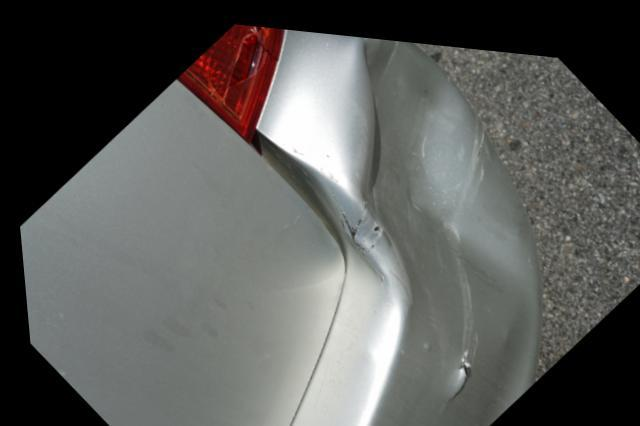dent: (357, 30, 529, 301)
lamp broken: (176, 19, 284, 138)
scratch: (332, 191, 381, 250), (455, 270, 474, 356)
